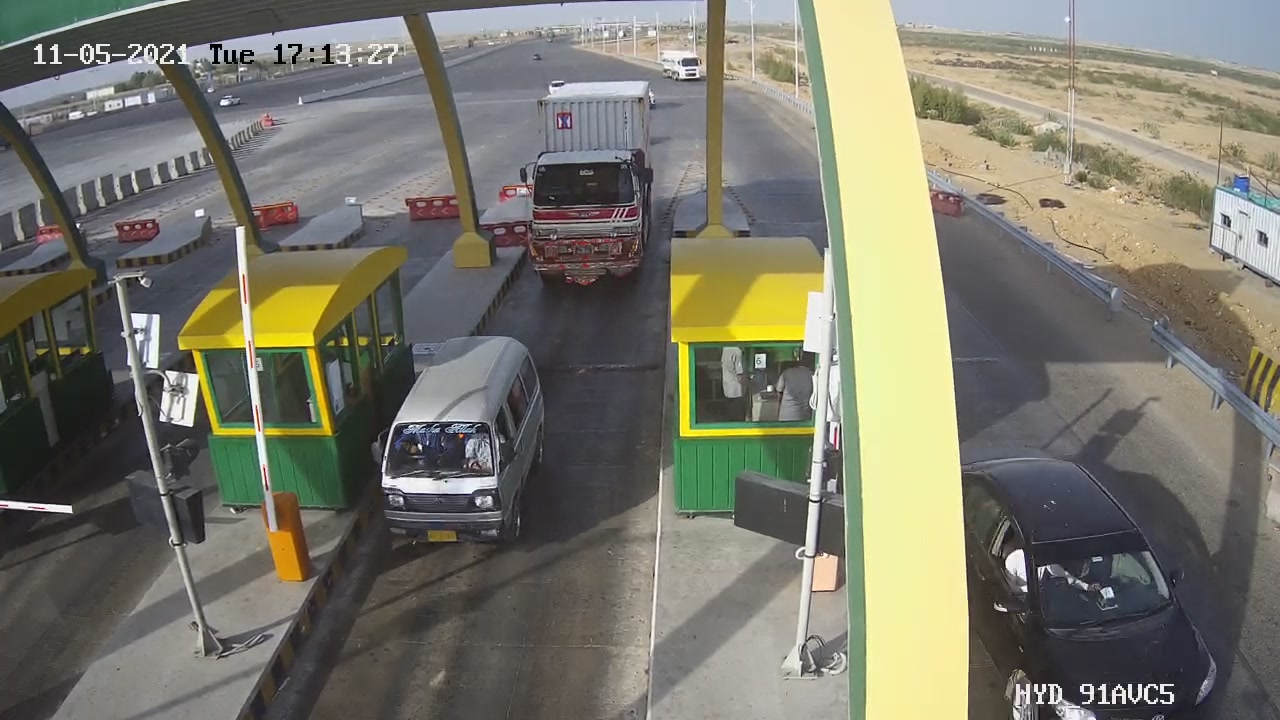F1: (361, 327, 566, 572)
F6: (507, 65, 670, 287)
